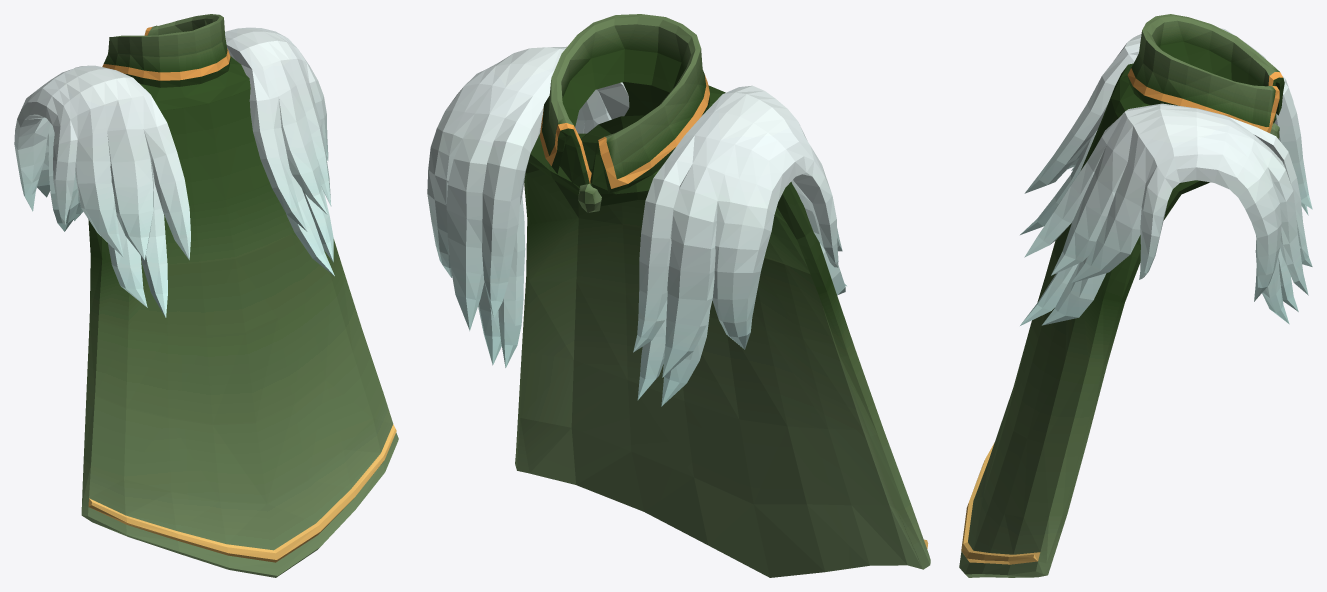
The model's file is CharSkyKid_Wing_AP16Earth.glb.
The picture shows the model from 3 angles, left to right: view 1: azimuth 30°, elevation 25°; view 2: azimuth 150°, elevation 25°; view 3: azimuth 270°, elevation 25°; orthographic projection. The views are drawn at different scales.
Parts seen in each view (by area): view 1: CharSkyKid_Wing_AP16Earth; view 2: CharSkyKid_Wing_AP16Earth; view 3: CharSkyKid_Wing_AP16Earth.
Boxes of the visible parts, bbox=[...] form: CharSkyKid_Wing_AP16Earth: bbox=[14, 14, 398, 577]; CharSkyKid_Wing_AP16Earth: bbox=[427, 14, 930, 577]; CharSkyKid_Wing_AP16Earth: bbox=[959, 14, 1312, 577].
Bounding box in the file's own units: 6.38 × 9.37 × 5.55.
Materials: 1 (1 with a texture image).
